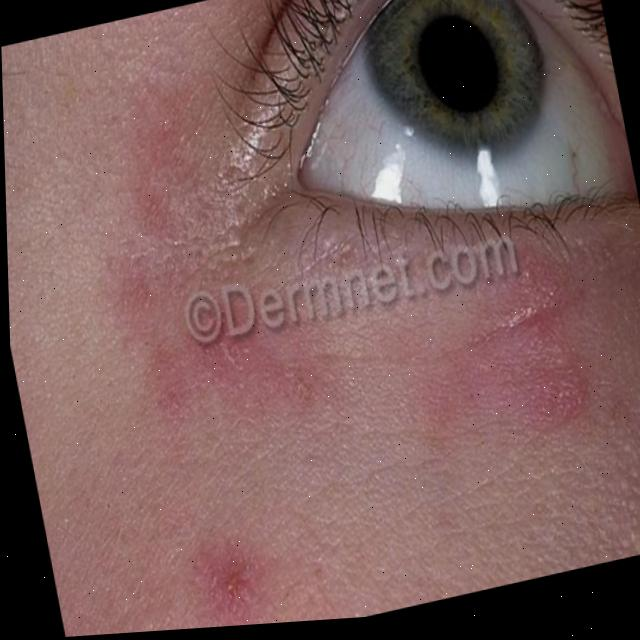Rosacea: (78, 149, 614, 635)
